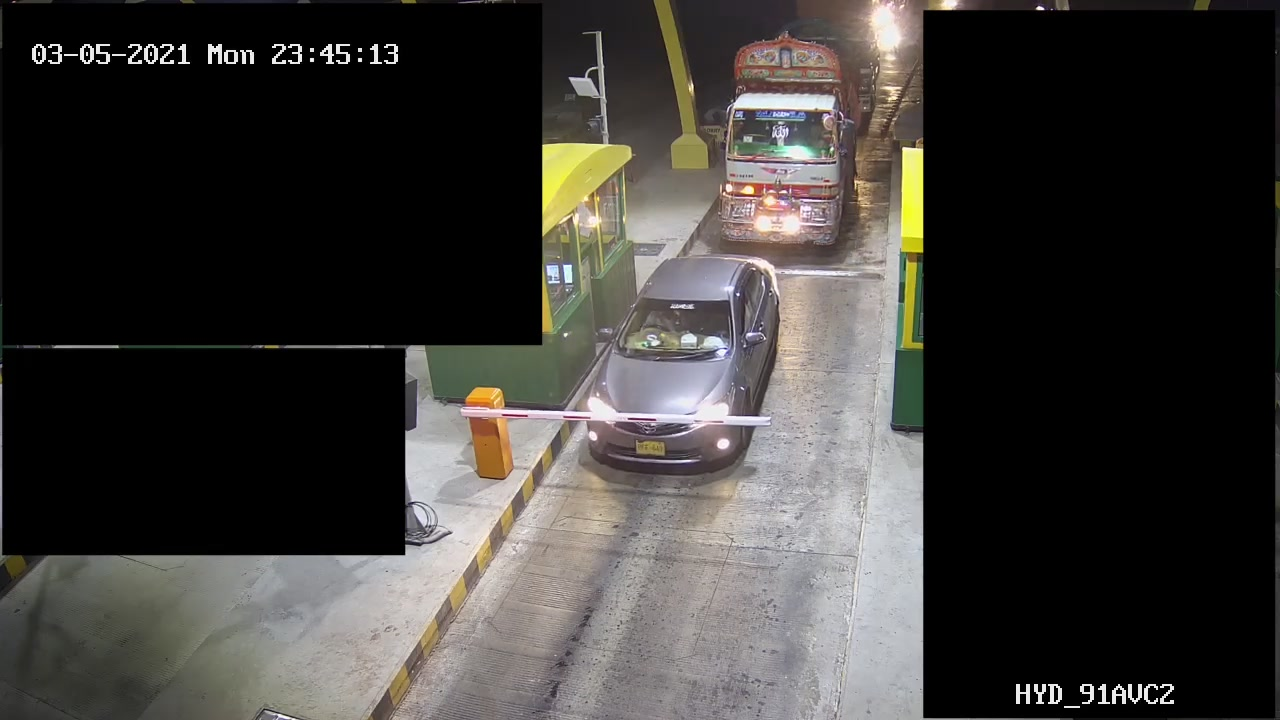F1: (574, 252, 795, 473)
